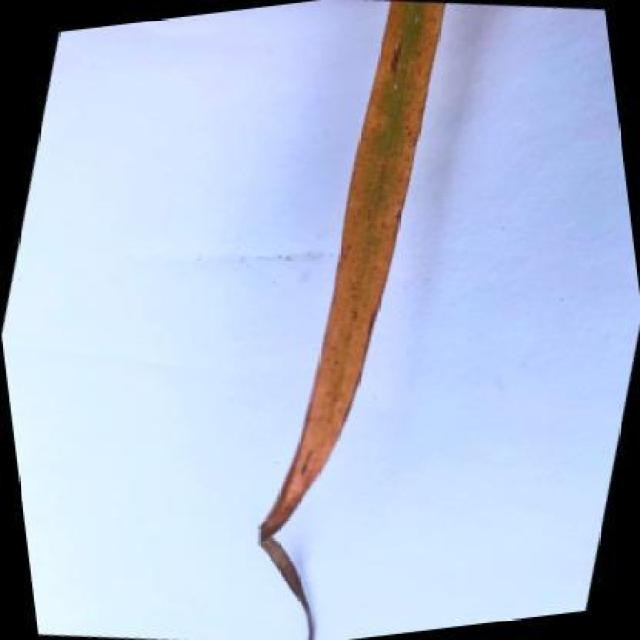Rice False Smut: (239, 1, 504, 634)
